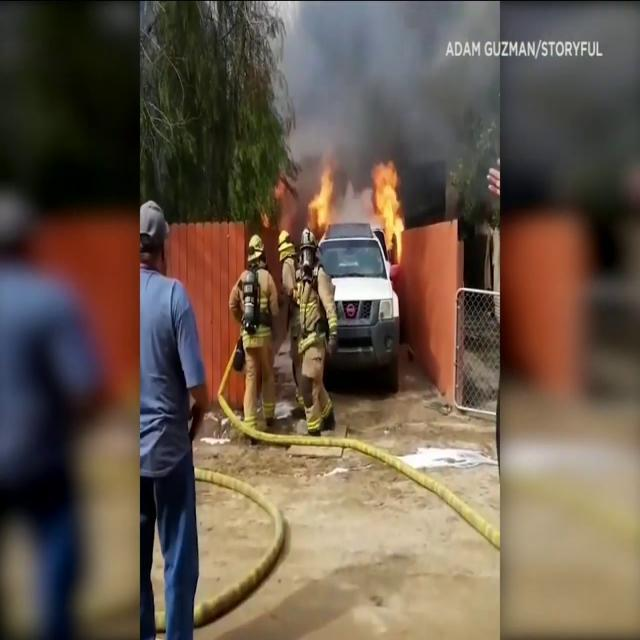Fire: (369, 157, 407, 266), (304, 166, 338, 236)
Smoke: (277, 3, 499, 183)
